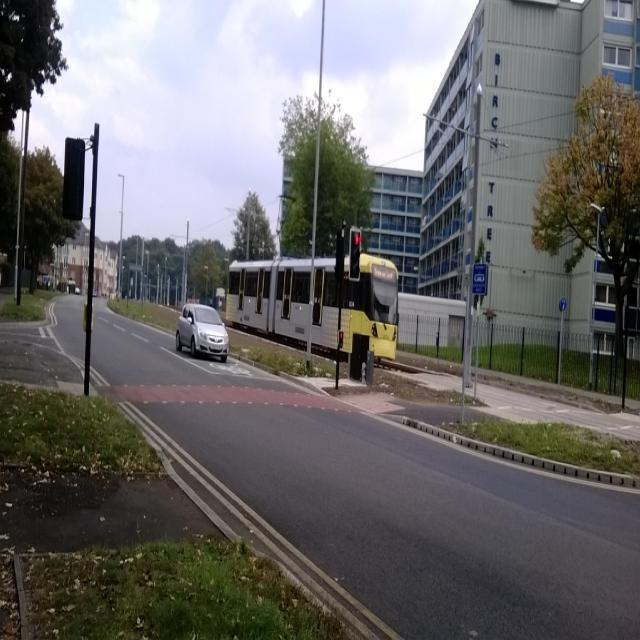traffic light: (349, 228, 364, 280)
